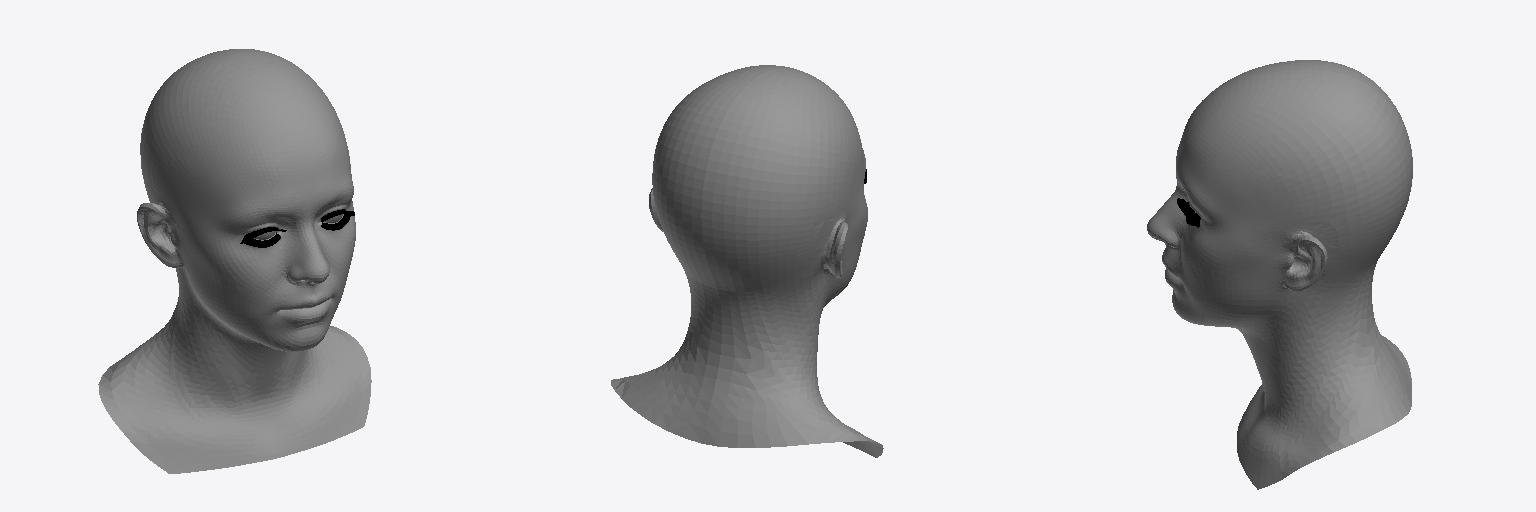
The model's file is identity000.obj.
3 views of the same model, side by side, from view 1: azimuth 30°, elevation 25°; view 2: azimuth 150°, elevation 25°; view 3: azimuth 270°, elevation 25° (orthographic).
Bounding box in the file's own units: 23.21 × 32.26 × 20.86.